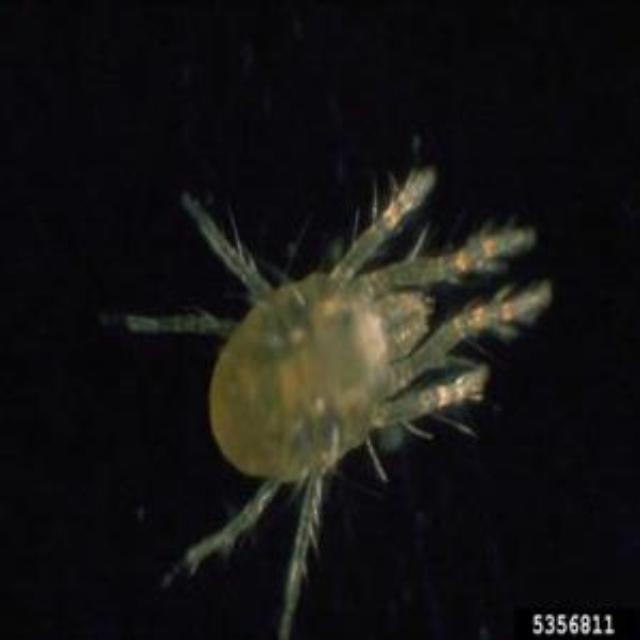spider mite: (78, 140, 560, 596)
